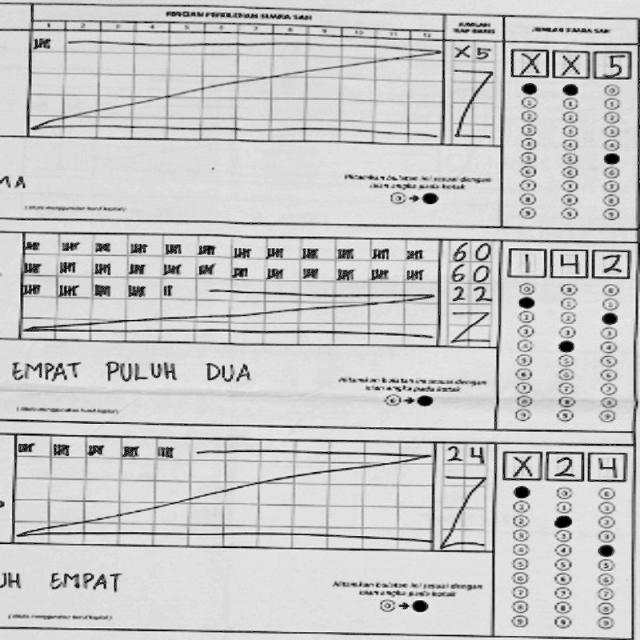Suara: (498, 444, 627, 485), (504, 241, 633, 280), (508, 44, 632, 80)
